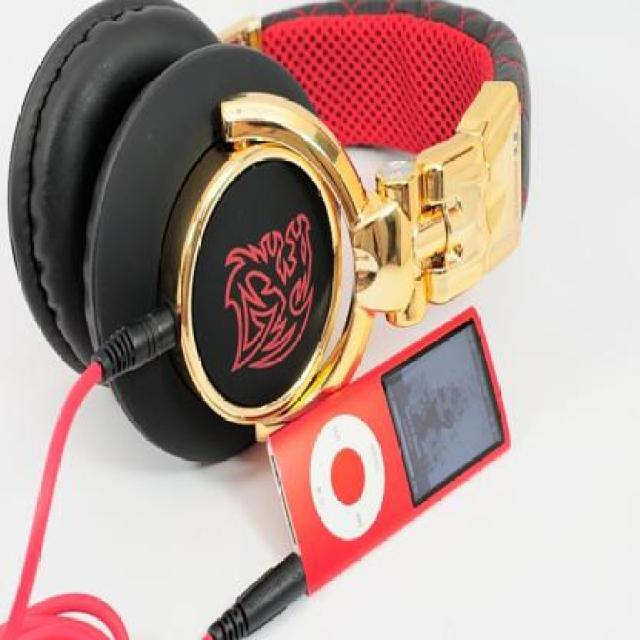laptop_computer: (21, 0, 551, 414)
